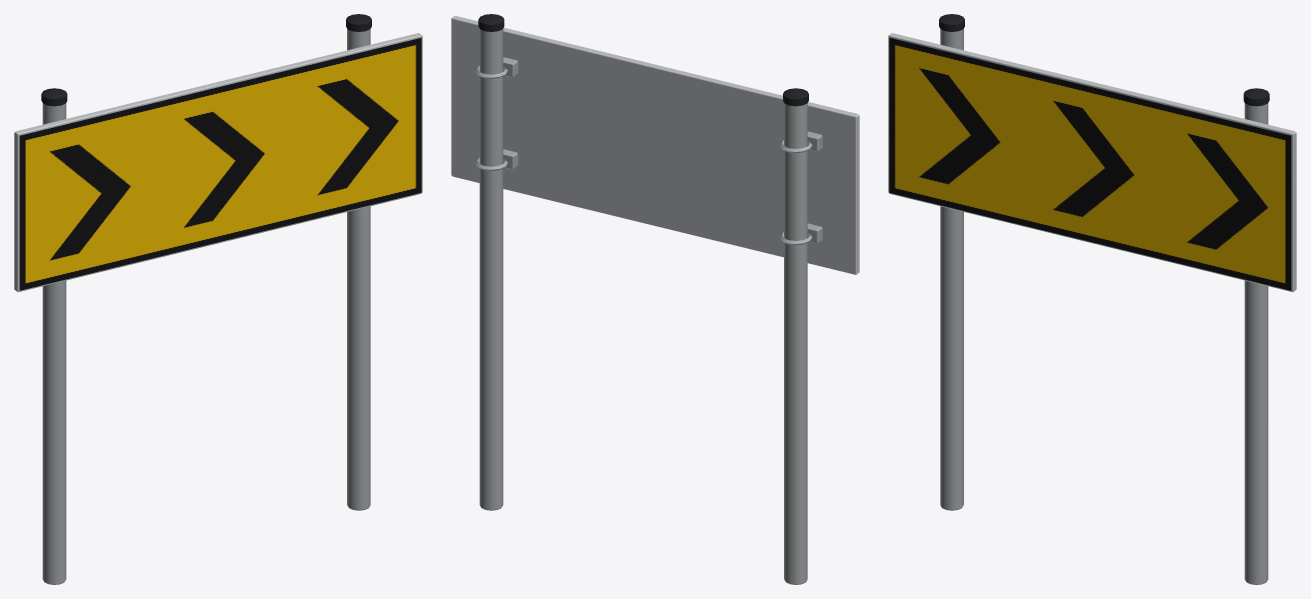
Rendered from chevron_board_wide.fbx.
3 renders of one model, left to right at view 1: azimuth 30°, elevation 25°; view 2: azimuth 150°, elevation 25°; view 3: azimuth 330°, elevation 25°, orthographic.
Parts seen in each view (by area): view 1: chevron_board_wide; view 2: chevron_board_wide; view 3: chevron_board_wide.
Part boxes in pixels (bbox=[...]): chevron_board_wide: bbox=[14, 14, 422, 584]; chevron_board_wide: bbox=[451, 14, 859, 584]; chevron_board_wide: bbox=[888, 14, 1296, 584].
Size of the model in its own units: 1.2 by 1.39 by 0.1141.
4 materials, 1 textured.
